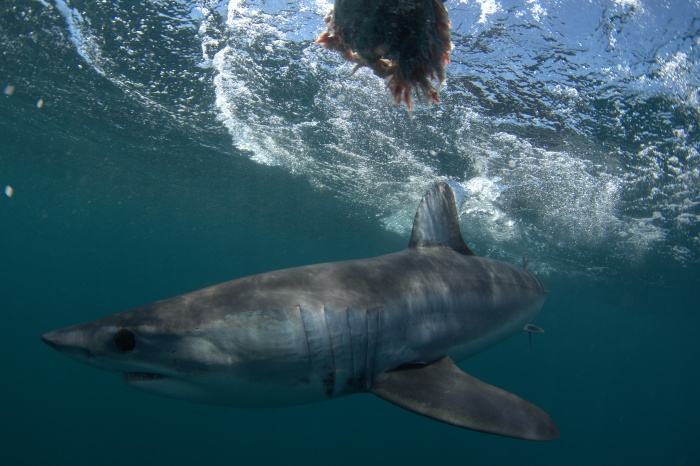Mako: (35, 178, 563, 447)
